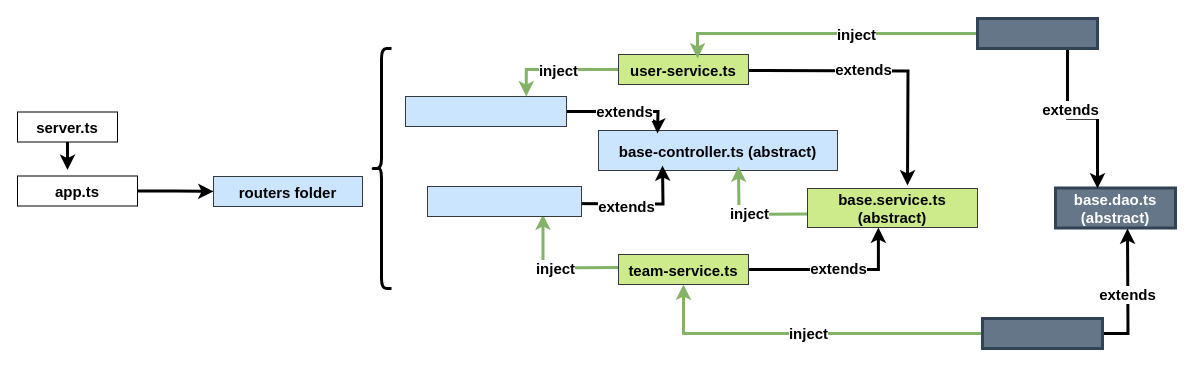
This 1194x367 diagram has some shape labels left out. Each missing label, with the centre of its shape:
"team.controller.ts" belongs at point 504,201.
"team.dao.ts" belongs at point 1042,333.
"user.controller.ts" belongs at point 485,111.
"user.dao.ts" belongs at point 1037,33.
